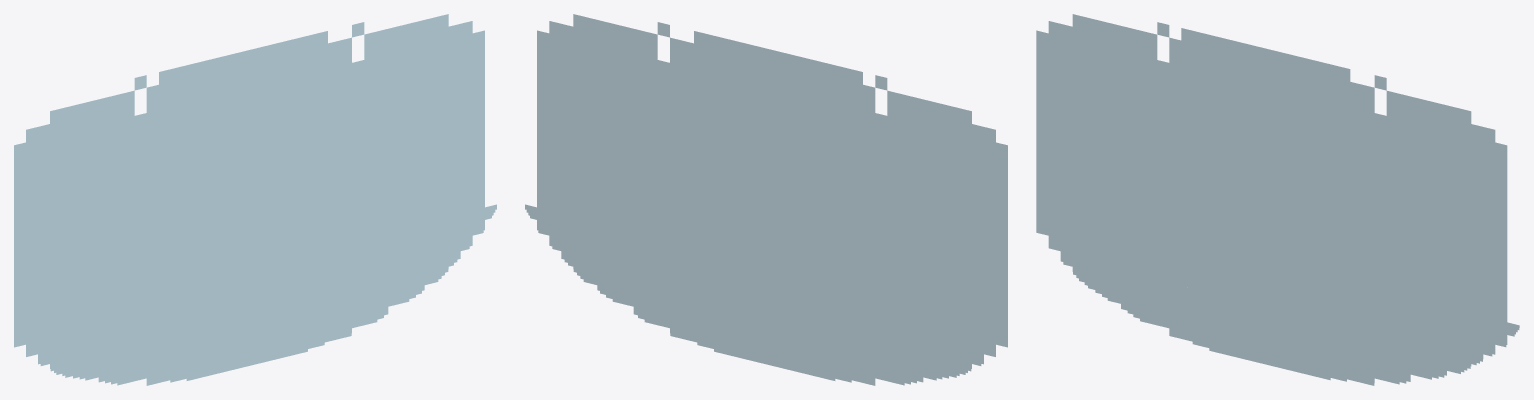
Rendered from wp_water_161.obj.
The picture shows the model from 3 angles, left to right: view 1: azimuth 30°, elevation 25°; view 2: azimuth 150°, elevation 25°; view 3: azimuth 330°, elevation 25°; orthographic projection.
Bounding box in the file's own units: 0.5855 × 0.366 × 0.
1 material, 1 textured.
